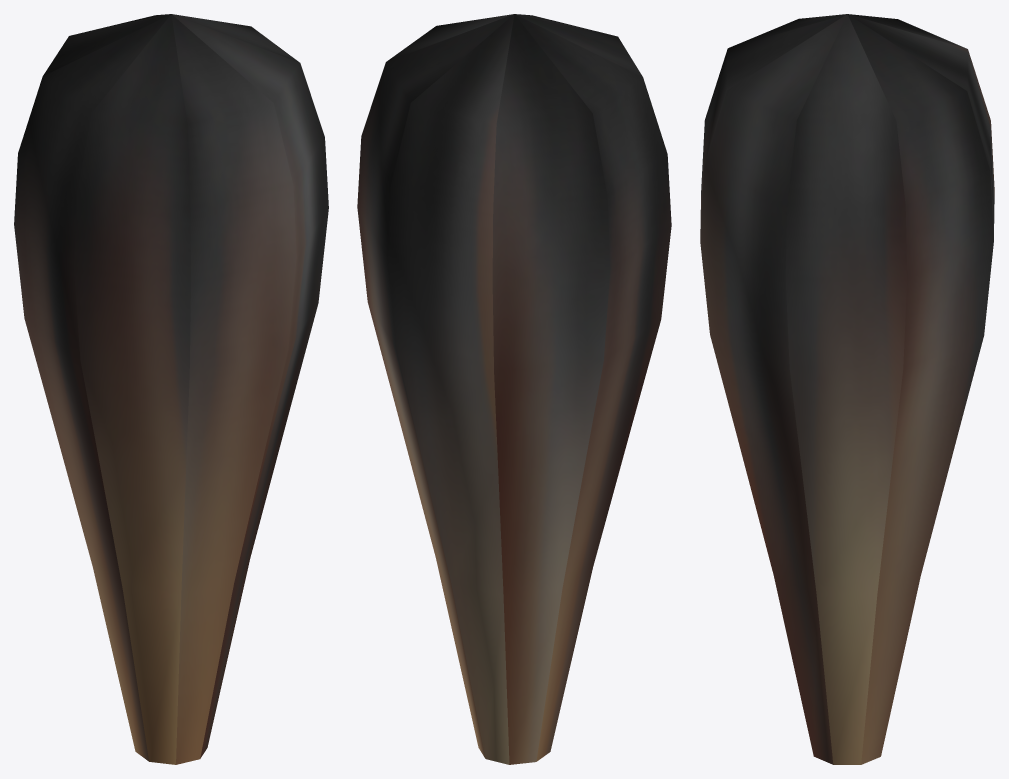
The model's file is eng_plumes_01.fbx.
The picture shows the model from 3 angles, left to right: view 1: azimuth 30°, elevation 25°; view 2: azimuth 150°, elevation 25°; view 3: azimuth 270°, elevation 25°; orthographic projection.
Visible parts, largest first — view 1: eng_plume_01; view 2: eng_plume_01; view 3: eng_plume_01.
Part boxes in pixels (left/top/right/bottom): eng_plume_01: left=14, top=14, right=328, bottom=764; eng_plume_01: left=357, top=14, right=671, bottom=764; eng_plume_01: left=700, top=14, right=994, bottom=764.
Size of the model in its own units: 7.61 by 21.02 by 7.61.
